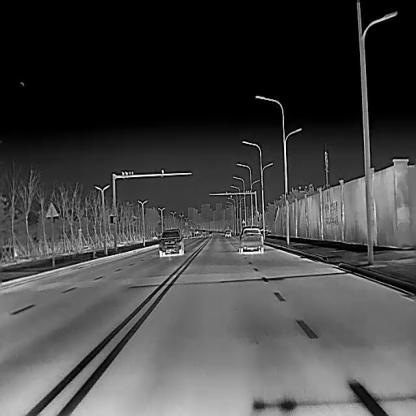car: (158, 227, 183, 256), (239, 225, 263, 252), (224, 229, 231, 237)
